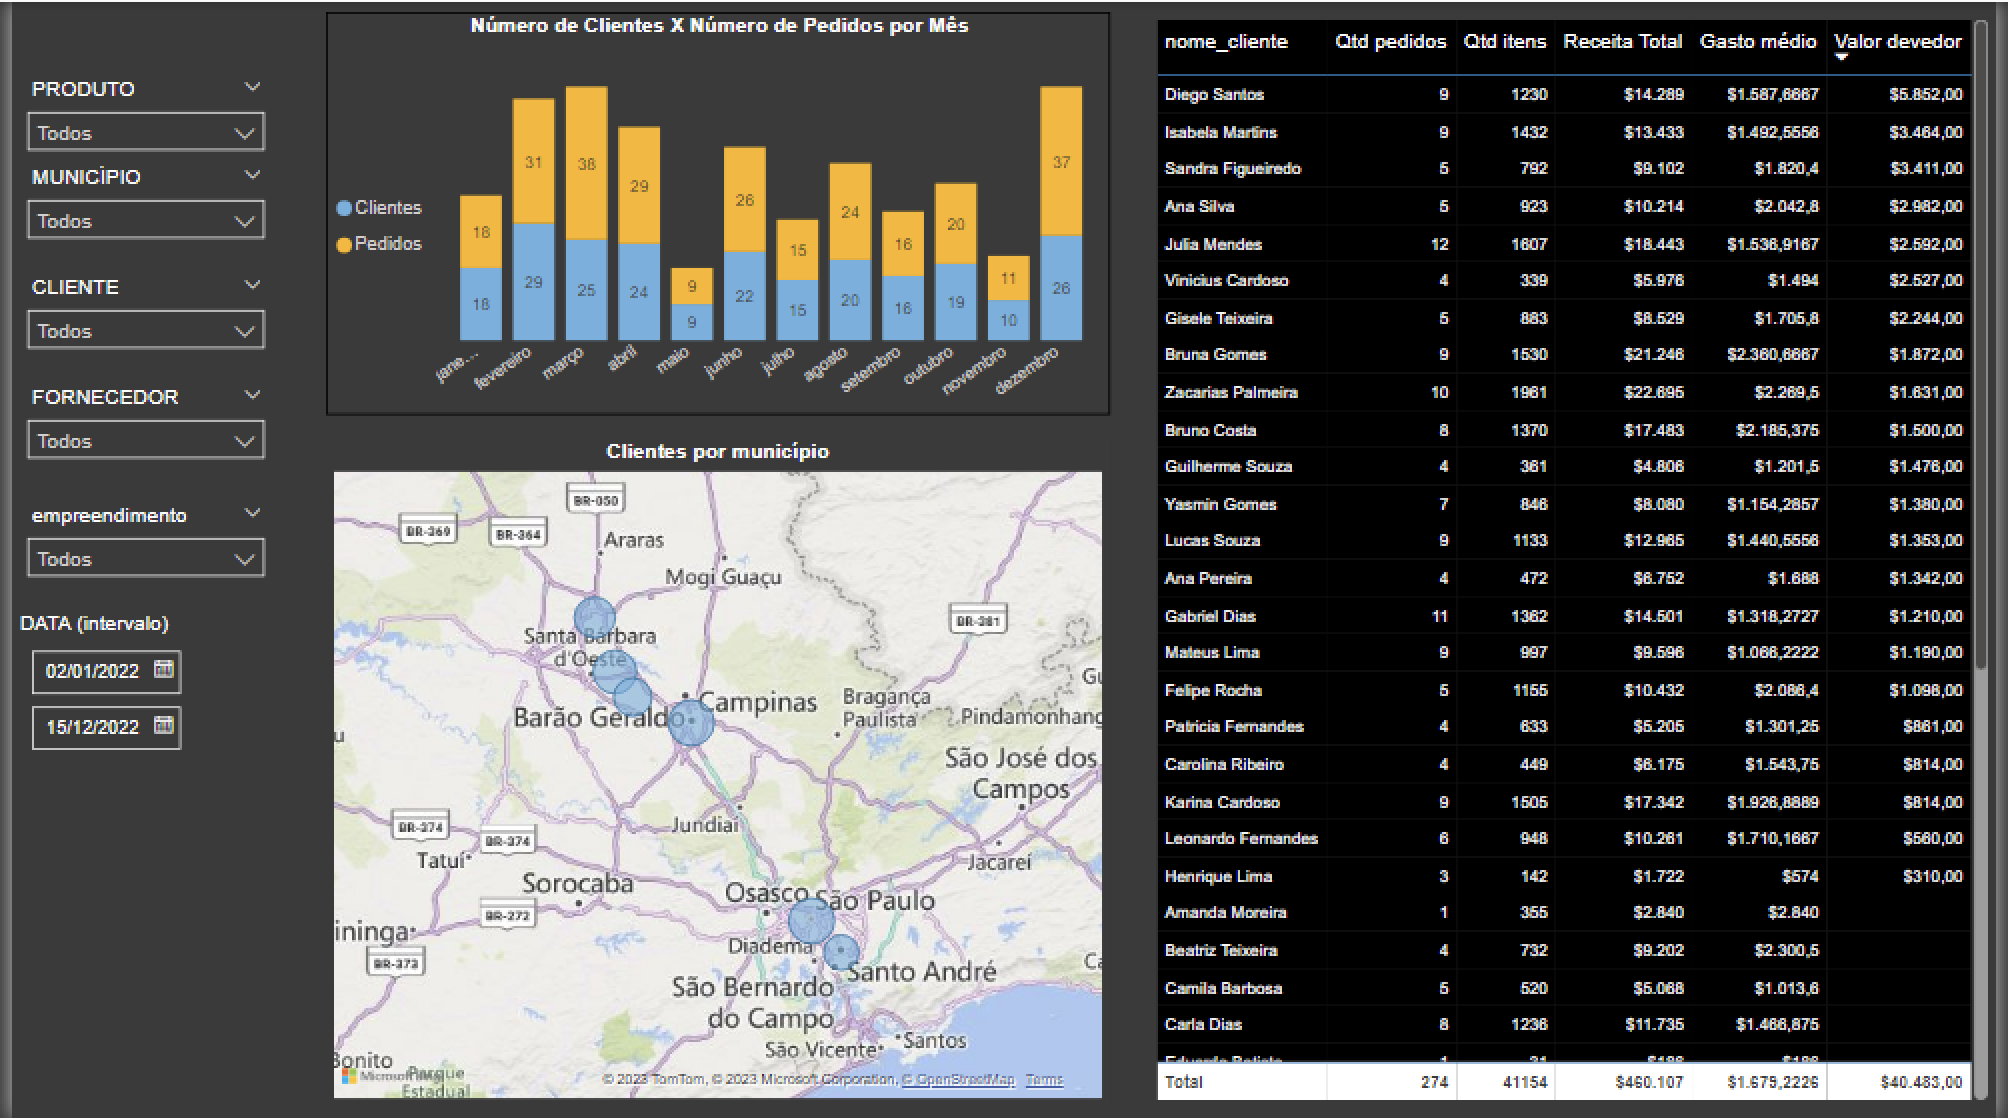

What the dashboard file says about the page in this screenshot:
{"tool":"powerbi","page":{"name":"Clientes","canvas":[1280,720],"ordinal":3},"visuals":[{"type":"slicer","fields":{"Values":["Flora_produtos.nome_produto"]},"box":[0,43.9,172.9,70.9],"z":5000},{"type":"slicer","fields":{"Values":["Flora_clientes.cidade"]},"box":[0,100.6,172.9,70.9],"z":6000},{"type":"slicer","fields":{"Values":["Flora_clientes.nome_cliente"]},"box":[0,171.5,172.9,70.9],"z":7000},{"type":"slicer","fields":{"Values":["Flora_fornecedores.nome_fornecedor"]},"box":[0,242.4,172.9,80.8],"z":8000},{"type":"slicer","title":"DATA (intervalo)","fields":{"Values":["Flora_pedidos.data_pedido"]},"box":[0,394,172.9,106.3],"z":9000},{"type":"slicer","fields":{"Values":["Flora_clientes.empreendimento"]},"box":[0,318.9,172.9,80.8],"z":10000},{"type":"columnChart","title":"Número de Clientes X Número de Pedidos por Mês","fields":{"Category":["Flora_pedidos.data_pedido.Variation.Hierarquia de datas.Mês"],"Y":["Flora_pedidos.id_cliente","Flora_pedidos.id_pedido"]},"box":[202.1,6.9,506,259.8],"z":10001},{"type":"tableEx","fields":{"Values":["Flora_clientes.nome_cliente","Flora_pedidos.id_pedido","Flora_pedidos.quantidade","Flora_pedidos.valor_total","Flora_pedidos.valor_total1","Flora_pagamentos.valor_total"]},"box":[732.8,6.9,547.2,706.7],"z":10002},{"type":"map","title":"Clientes por município","fields":{"Category":["Flora_clientes.cidade"],"Size":["Flora_clientes.id_cliente"]},"box":[202.1,283.2,506,430.3],"z":10003}]}

Visuals, with their boxes in screenshot pixels (x1, y1, x2, y2), scaled from the page's 1280x720 canvas onto the 2008x1118 screenshot:
slicer - Flora_produtos.nome_produto: x1=0 y1=68 x2=271 y2=178
slicer - Flora_clientes.cidade: x1=0 y1=156 x2=271 y2=266
slicer - Flora_clientes.nome_cliente: x1=0 y1=266 x2=271 y2=376
slicer - Flora_fornecedores.nome_fornecedor: x1=0 y1=376 x2=271 y2=502
"DATA (intervalo)" slicer: x1=0 y1=612 x2=271 y2=777
slicer - Flora_clientes.empreendimento: x1=0 y1=495 x2=271 y2=621
"Número de Clientes X Número de Pedidos por Mês" columnChart: x1=317 y1=11 x2=1111 y2=414
tableEx - Flora_clientes.nome_cliente x Flora_pedidos.id_pedido: x1=1150 y1=11 x2=2007 y2=1108
"Clientes por município" map: x1=317 y1=440 x2=1111 y2=1108
